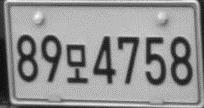4: (92, 35, 116, 84)
5: (144, 36, 167, 85)
7: (116, 36, 140, 84)
8: (168, 35, 193, 86), (16, 34, 39, 82)
9: (40, 33, 62, 83)
모: (65, 43, 89, 84)
